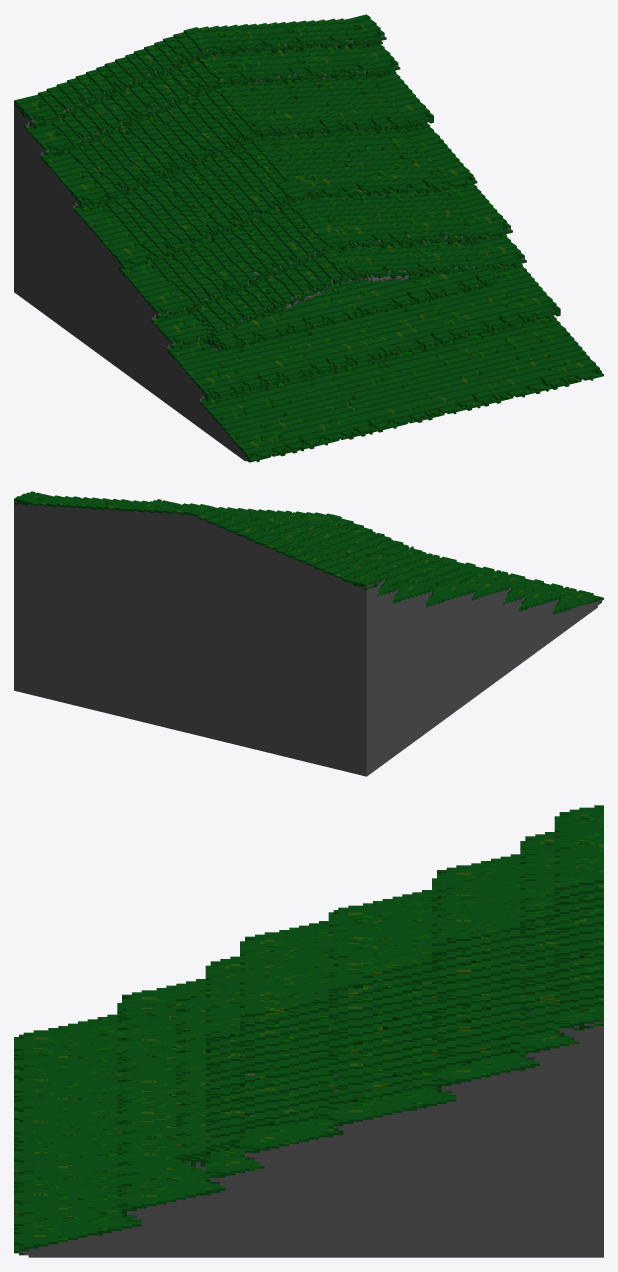
File: backgroundfbx.fbx
The picture shows the model from 3 angles, top to bottom: view 1: azimuth 30°, elevation 25°; view 2: azimuth 150°, elevation 25°; view 3: azimuth 270°, elevation 25°; orthographic projection. The views are drawn at different scales.
Parts seen in each view (by area): view 1: Untitled; view 2: Untitled; view 3: Untitled.
Boxes of the visible parts, bbox=[...] form: Untitled: bbox=[14, 14, 603, 462]; Untitled: bbox=[14, 491, 603, 776]; Untitled: bbox=[14, 805, 603, 1257].
Size of the model in its own units: 2060 by 1230 by 2400.
